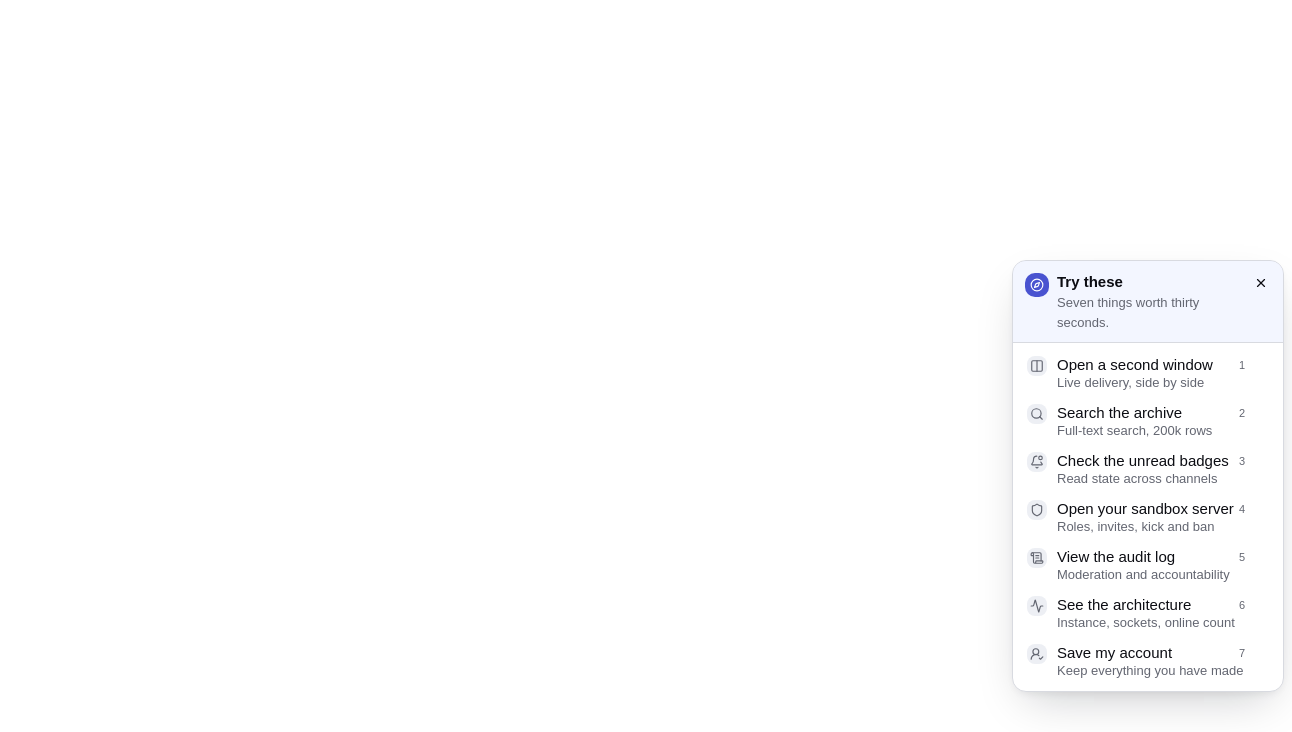
Test: GuidePanel › navigates into the sandbox
Click the button "Open your sandbox server 4 Roles, invites, kick and ban" at [1148, 517], box x1=1019 y1=493 x2=1277 y2=541
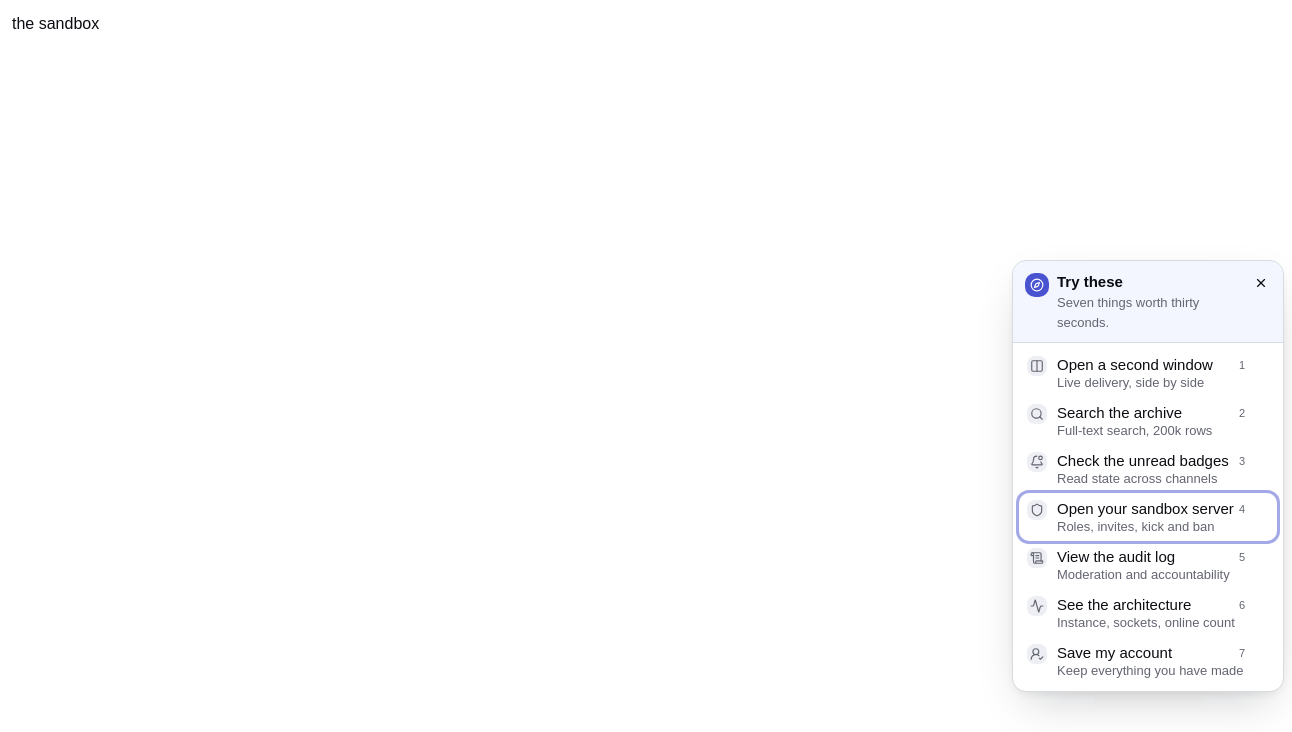
expect the text "the sandbox" is shown: met, box x1=12 y1=15 x2=99 y2=32
